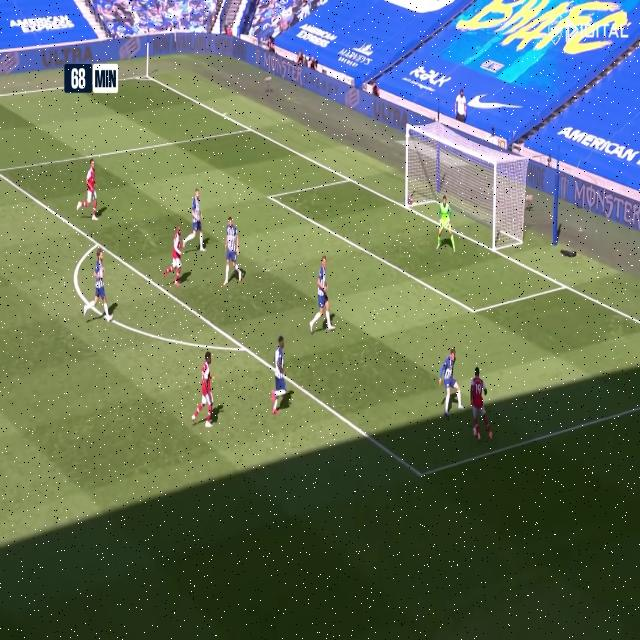Ball: (469, 428, 481, 439)
GoalKeeper: (434, 193, 460, 264)
TEAM 1: (468, 364, 500, 451), (193, 346, 220, 432), (163, 228, 193, 295), (74, 157, 102, 223)
TEAM 2: (83, 246, 118, 332), (308, 252, 340, 337), (180, 185, 213, 255), (437, 342, 464, 424), (266, 335, 293, 416), (220, 218, 248, 286)
